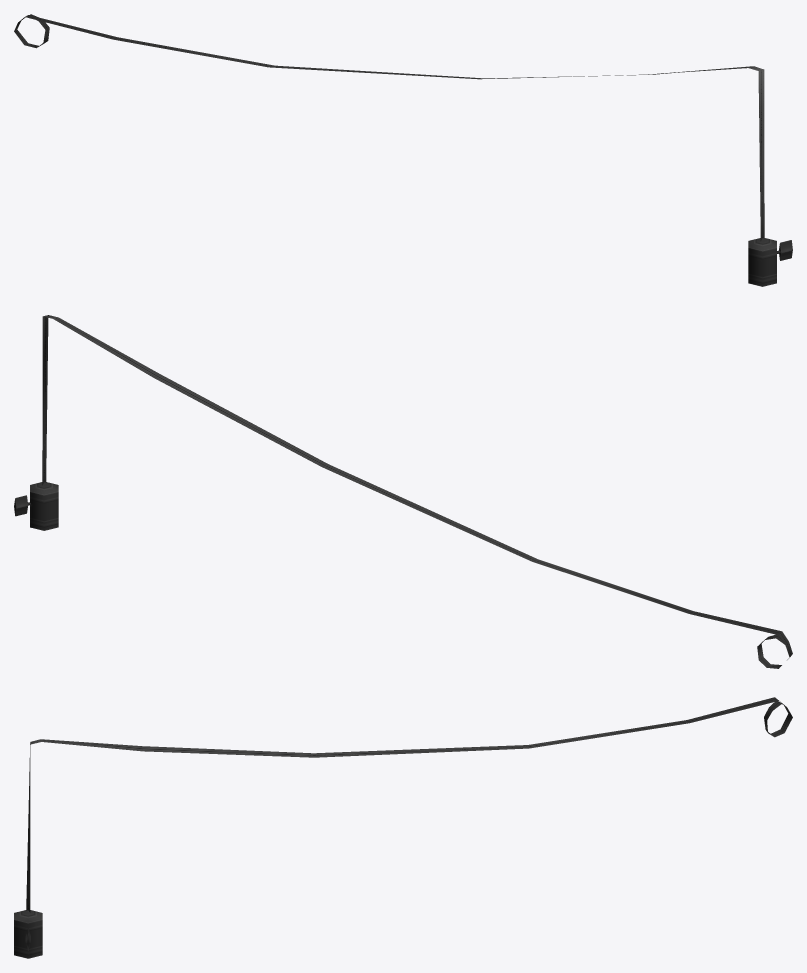
Rendered from jsf_2P_Light_s03_c.fbx.
The picture shows the model from 3 angles, top to bottom: view 1: azimuth 30°, elevation 25°; view 2: azimuth 210°, elevation 25°; view 3: azimuth 270°, elevation 25°; orthographic projection.
Parts seen in each view (by area): view 1: jsf_2P_Light_s03_c; view 2: jsf_2P_Light_s03_c; view 3: jsf_2P_Light_s03_c.
Part boxes in pixels (box(x1,y1,x2,y2)): jsf_2P_Light_s03_c: box(14, 14, 792, 286); jsf_2P_Light_s03_c: box(14, 315, 792, 668); jsf_2P_Light_s03_c: box(14, 697, 792, 958).
Size of the model in its own units: 45.72 by 23.05 by 77.93.
